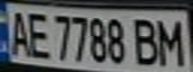7: (48, 11, 72, 62), (66, 12, 87, 62)
8: (106, 15, 130, 65), (87, 13, 109, 64)
A: (3, 7, 33, 57)
B: (130, 15, 163, 66)
E: (24, 8, 51, 59)
M: (154, 15, 187, 67)
